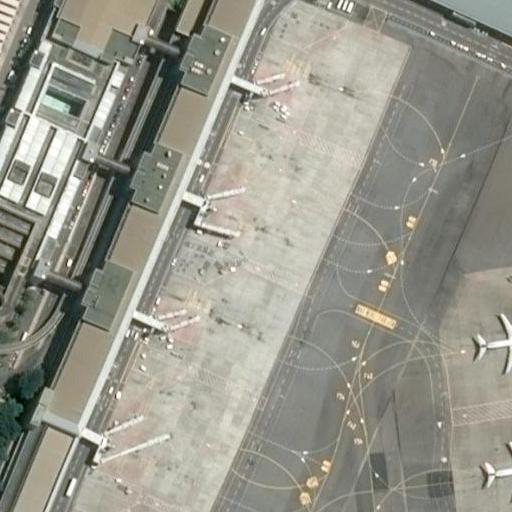Aircraft: (473, 311, 512, 368), (479, 438, 512, 501)
